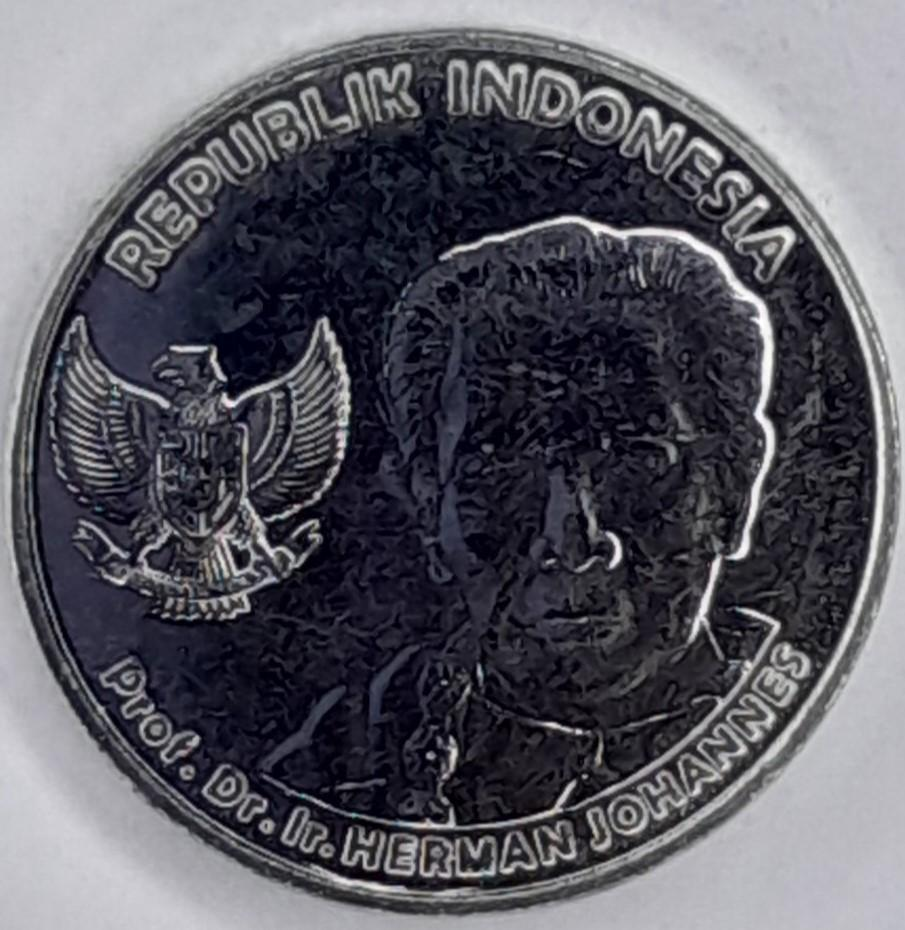coin_100_e2016: (2, 22, 903, 914)
